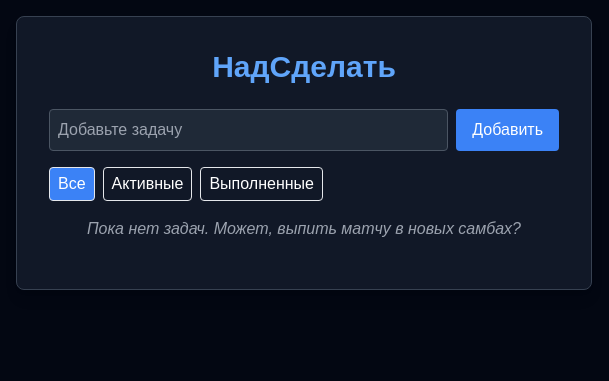
Test: ToDo App › Фильтры: показываются только активные задачи
In the field with placeholder "Добавьте задачу": x=249, y=130 [49,109,448,151], type "Активная"
Then press Enter
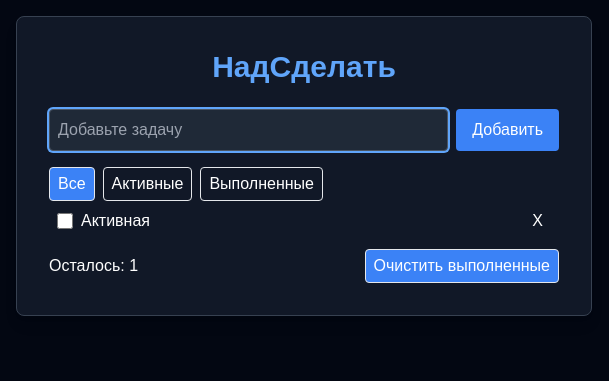
In the field with placeholder "Добавьте задачу": x=249, y=130 [49,109,448,151], type "Выполненная"
Then press Enter
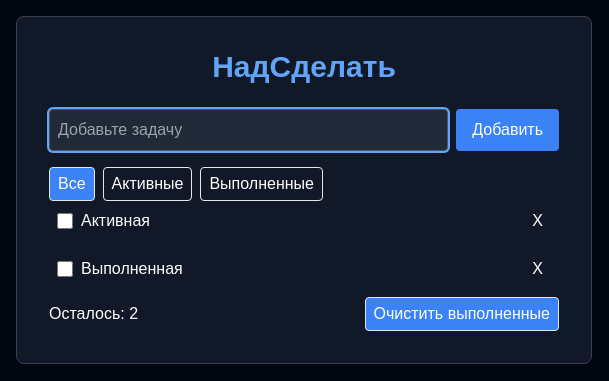
Click the checkbox labelled "Выполненная": x=65, y=269 [57,261,73,277]
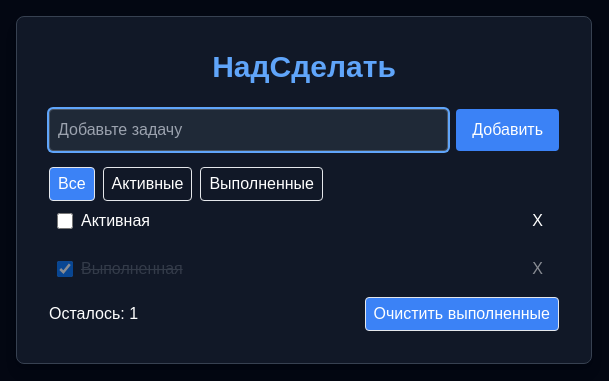
Click the button "Активные": x=148, y=184 [103,167,192,201]
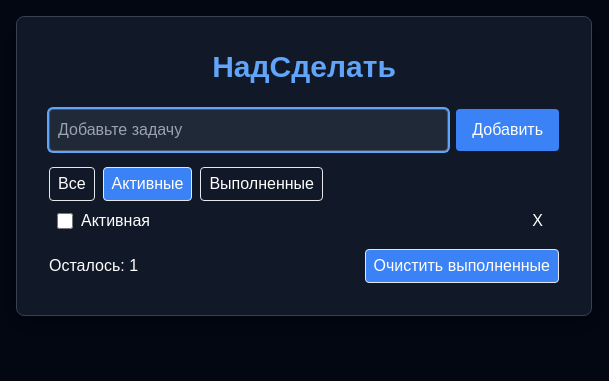
Now the text "Активная" is shown, box [81,209,150,233]
Now the text "Выполненная" is gone
